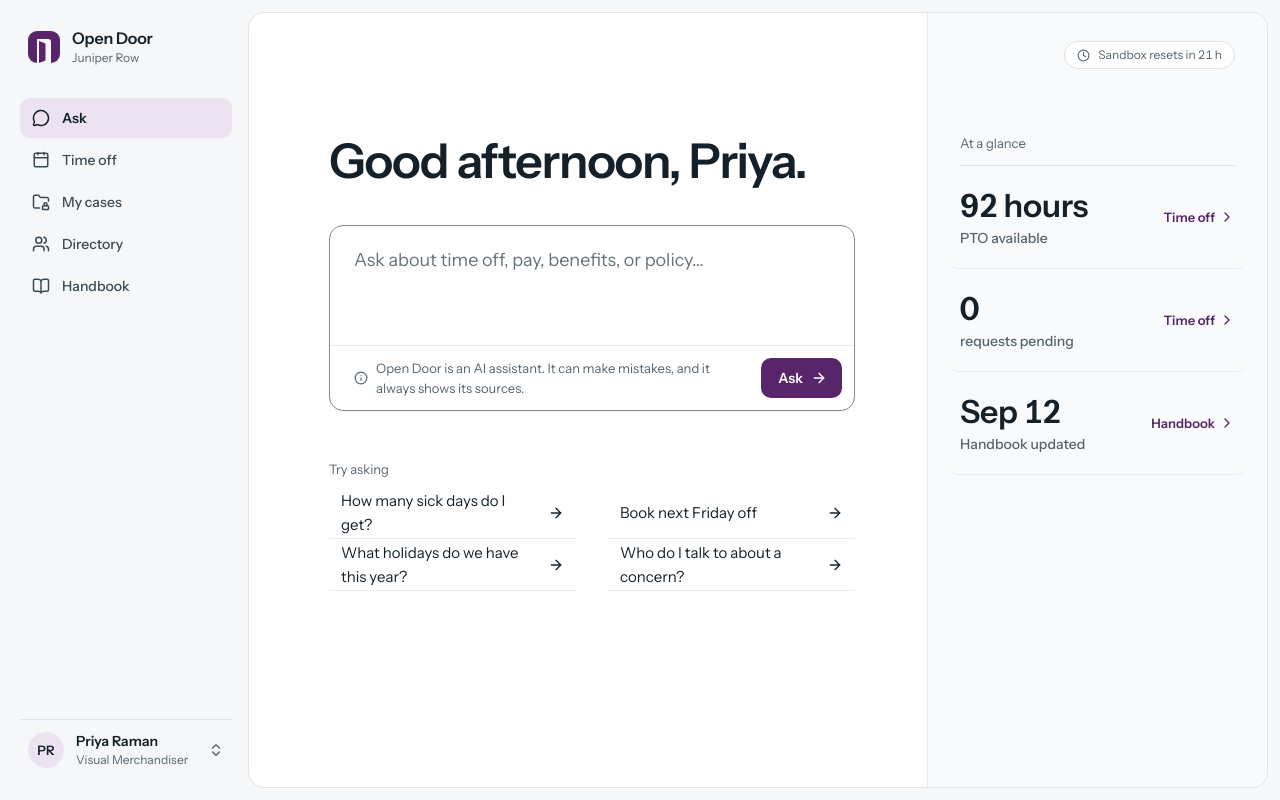
it: asking › shows the API's personal-data text and sends nothing for a number it refuses
This screenshot has width=1280, height=800.
Step 1. Type "My SSN is 123-45-6789" into the text box named "Ask Open Door" → (592, 282), box [330, 226, 854, 338]
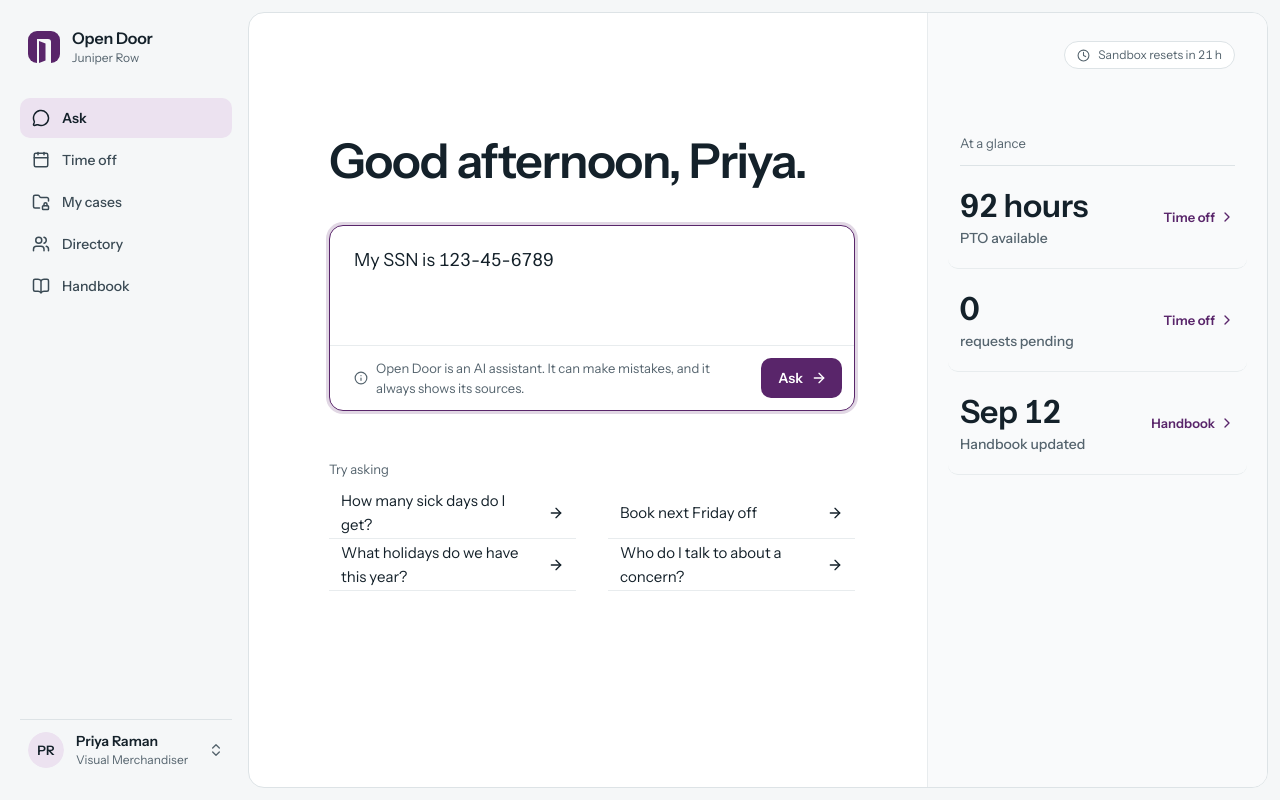
Step 2. Click the button "Ask" → (802, 378), box [761, 358, 842, 398]
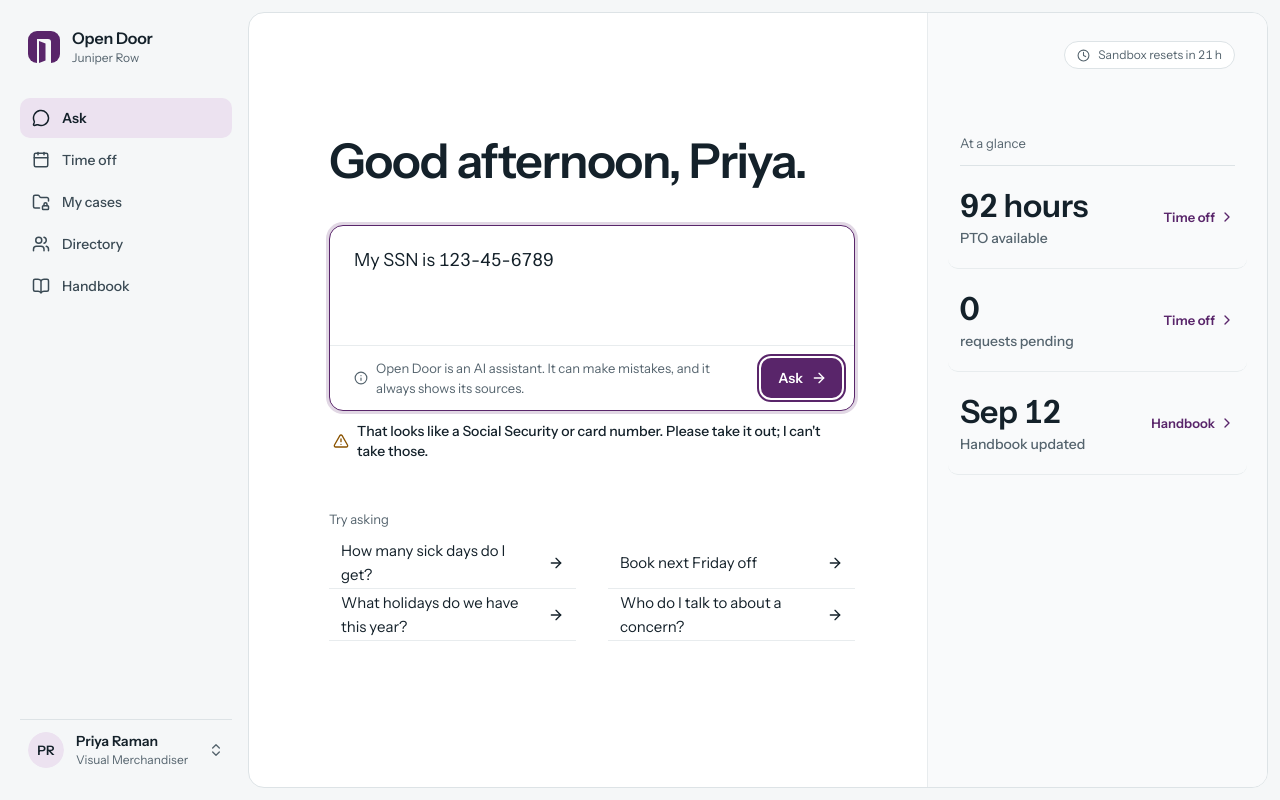
Check: the message shows "That looks like a Social Security or card number. Please take it out; I can't take those.", box [357, 422, 820, 460]
